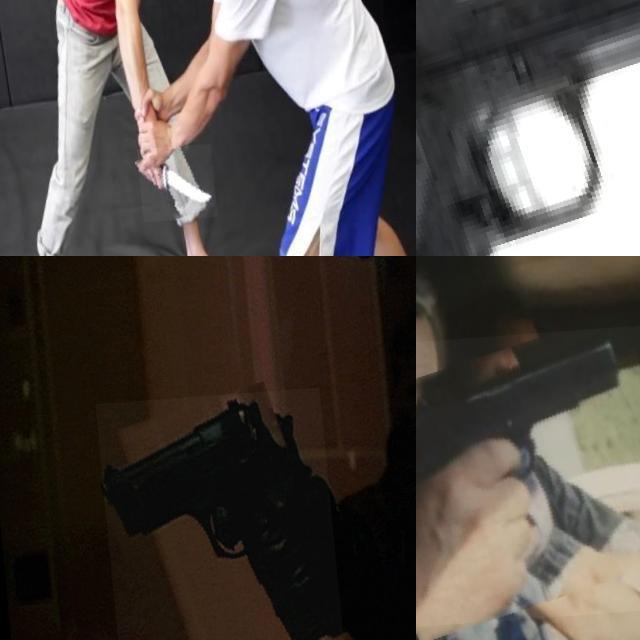-: (130, 150, 210, 228)
gun-knife-thesis - v11 Yolov5 augmented: (416, 332, 640, 634), (89, 392, 336, 640), (416, 0, 640, 256)
